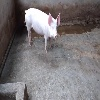heo: (21, 6, 61, 54)
